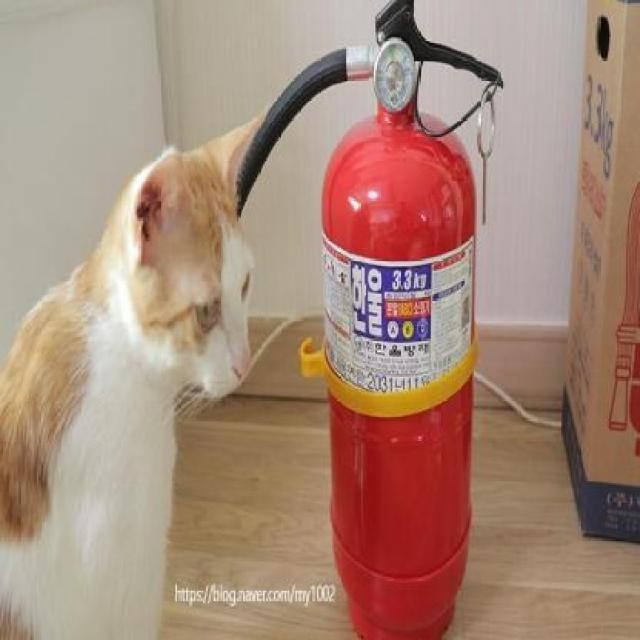fire extinguisher: (234, 0, 506, 640)
